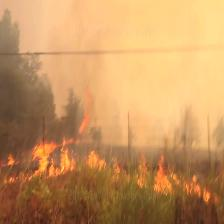fire: (0, 126, 224, 202)
